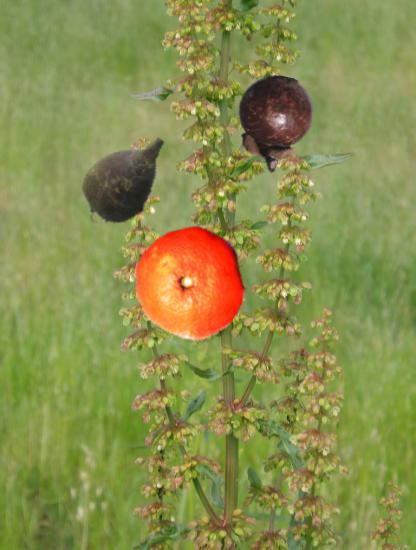Beetroot: (68, 123, 180, 235)
Clementine: (134, 224, 252, 342)
Mangostan: (225, 75, 323, 173)
